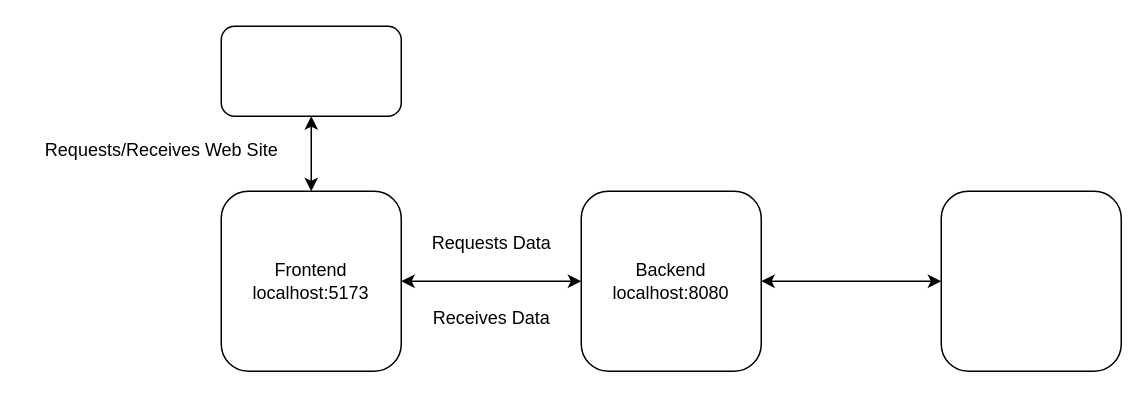
The diagram is 1148 pixels wide and 398 high, and some of its shapes have lost their labels. The centre of each missing label's shape, as x and y in pixels:
"Database TablePlus" goes at (1030,280).
"User" goes at (310,70).
